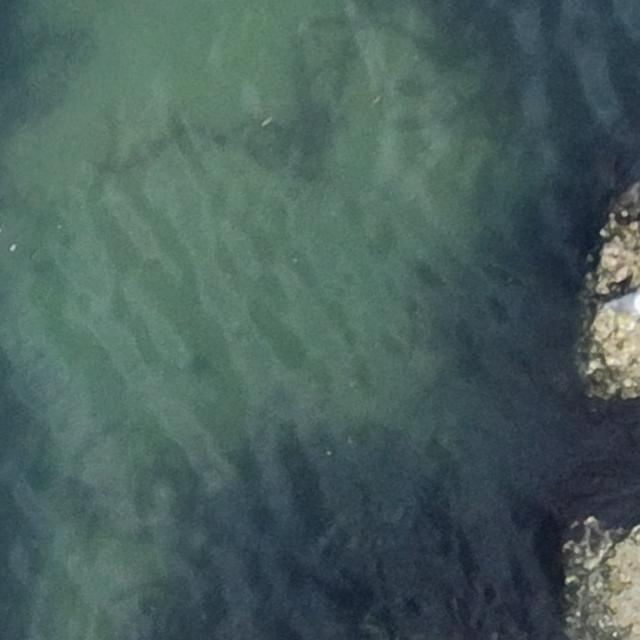umineko: (610, 292, 640, 314)
